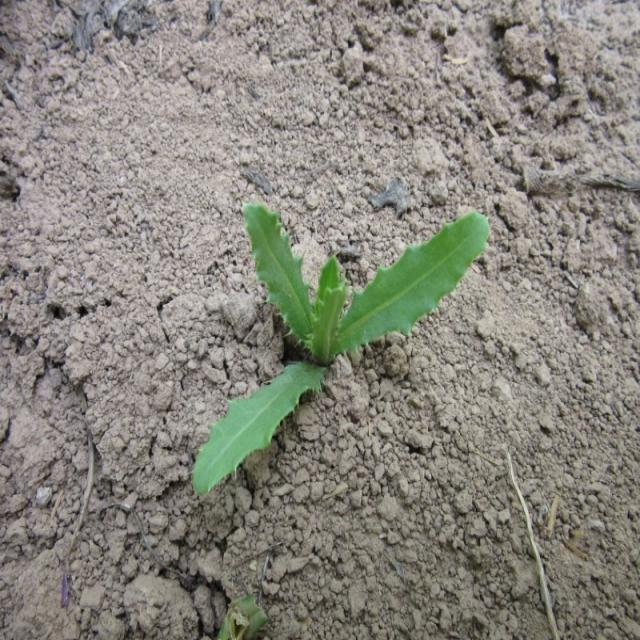field_thistle: (168, 173, 514, 524)
